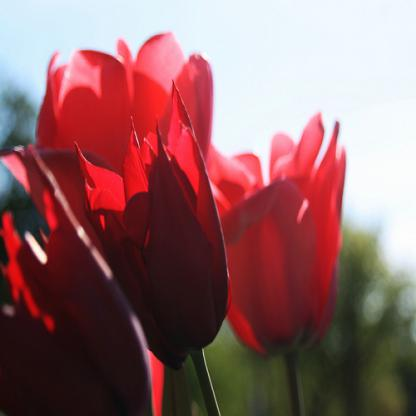TULIP: (19, 13, 350, 407)
